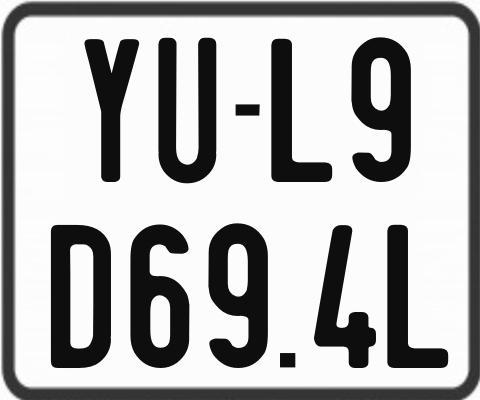4: (311, 223, 374, 369)
6: (129, 224, 193, 373)
9: (350, 37, 415, 185), (206, 222, 268, 368)
D: (51, 222, 113, 367)
L: (271, 37, 337, 182), (387, 224, 450, 370)
U: (158, 36, 222, 184)
Y: (83, 39, 138, 186)
